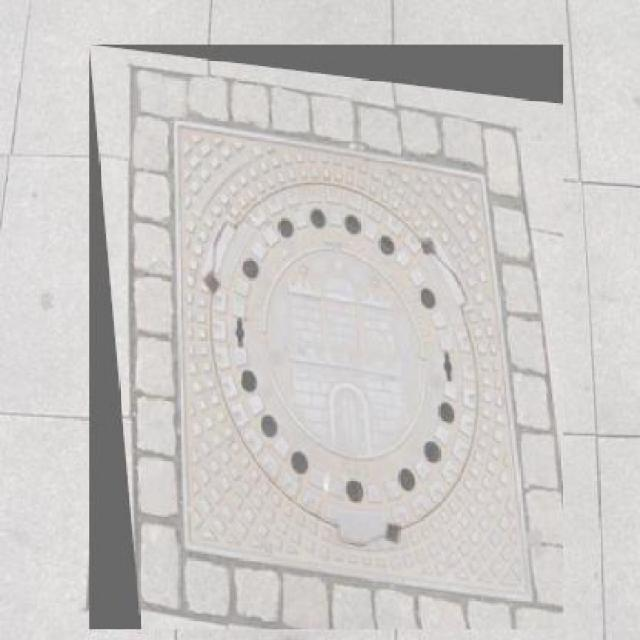Manhole: (90, 45, 564, 630)
